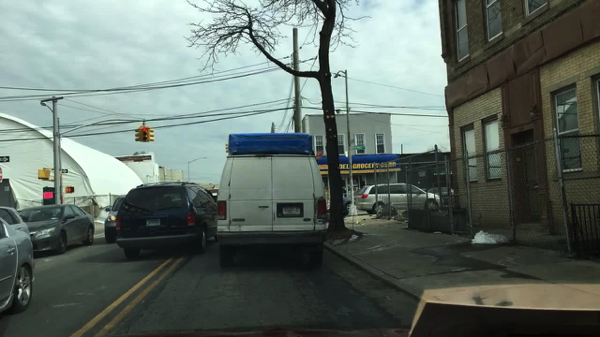car: (214, 133, 328, 268), (116, 180, 219, 260), (18, 204, 95, 257), (0, 217, 35, 313), (356, 184, 445, 217), (104, 193, 127, 245), (2, 207, 32, 242), (421, 186, 456, 207), (342, 191, 357, 215)
traffic light: (37, 168, 51, 182), (140, 125, 149, 142), (133, 127, 141, 142), (65, 186, 75, 196), (149, 126, 155, 142)
traffic sign: (0, 156, 11, 163), (349, 145, 365, 149), (316, 150, 323, 158), (0, 169, 4, 182), (59, 169, 69, 174), (348, 138, 355, 145)
